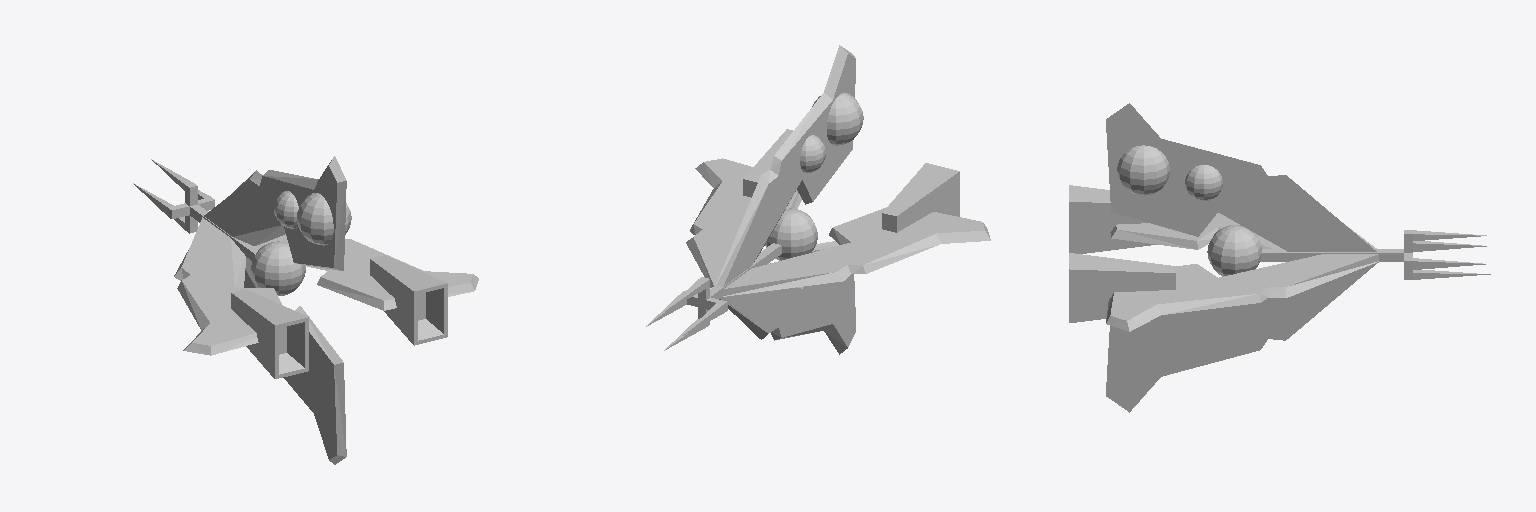
File: corsairwip1.obj
3 views of the same model, side by side, from view 1: azimuth 30°, elevation 25°; view 2: azimuth 150°, elevation 25°; view 3: azimuth 270°, elevation 25° (orthographic).
Parts seen in each view (by area): view 1: polySurface4; view 2: polySurface4; view 3: polySurface4.
Boxes of the visible parts, <box> form: polySurface4: <box>133,156,478,464</box>; polySurface4: <box>646,45,990,354</box>; polySurface4: <box>1069,103,1490,412</box>.
Size of the model in its own units: 12.79 by 12.79 by 15.78.